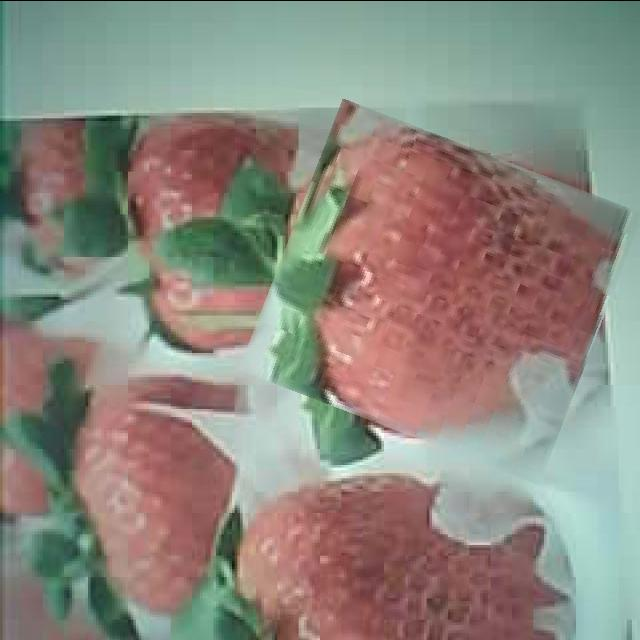strawberry: (260, 122, 623, 461)
